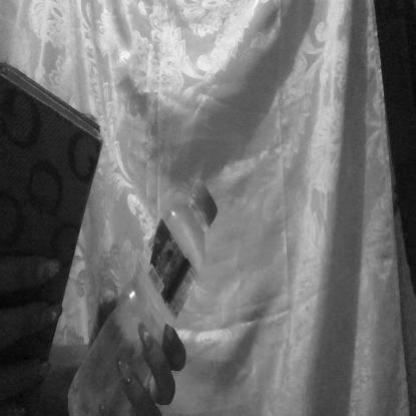Plastic Bottle: (106, 181, 224, 415)
